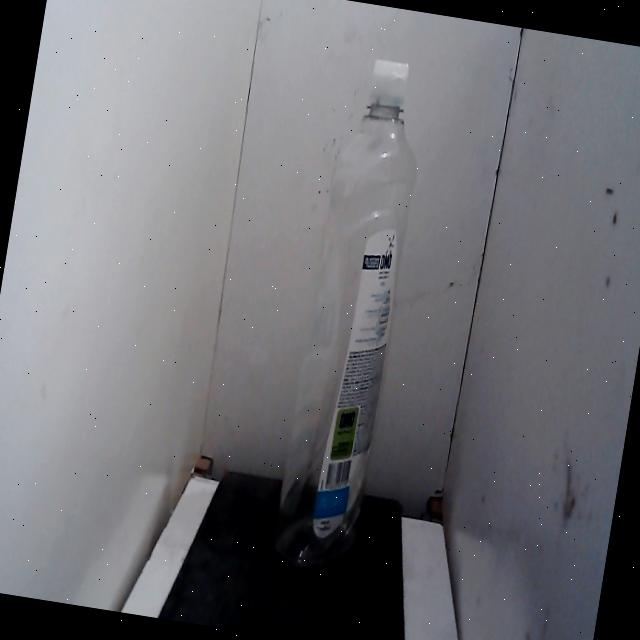plastico: (263, 42, 446, 586)
